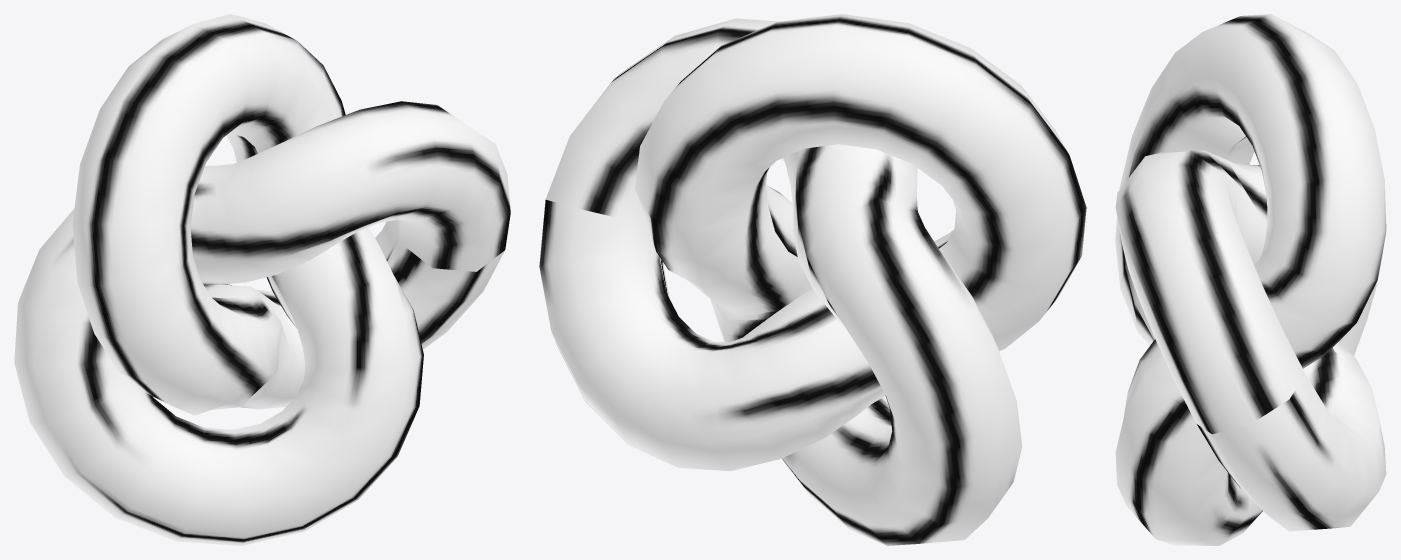
3 views of the same model, side by side, from view 1: azimuth 30°, elevation 25°; view 2: azimuth 150°, elevation 25°; view 3: azimuth 270°, elevation 25° (orthographic). The views are drawn at different scales.
Visible parts, largest first — view 1: TorusKnot; view 2: TorusKnot; view 3: TorusKnot.
Part boxes in pixels (x1,y1,x2,y2): TorusKnot: (14, 14, 510, 545); TorusKnot: (539, 14, 1086, 545); TorusKnot: (1115, 14, 1386, 545).
Bounding box in the file's own units: 3.46 × 3.6 × 1.78.
1 material, 1 textured.
